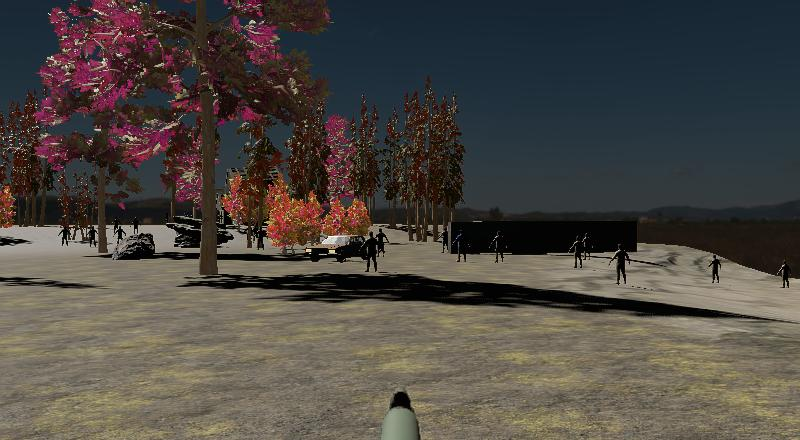Human: (608, 242, 631, 286), (361, 230, 382, 274), (376, 226, 390, 257)
car: (307, 232, 366, 263)
